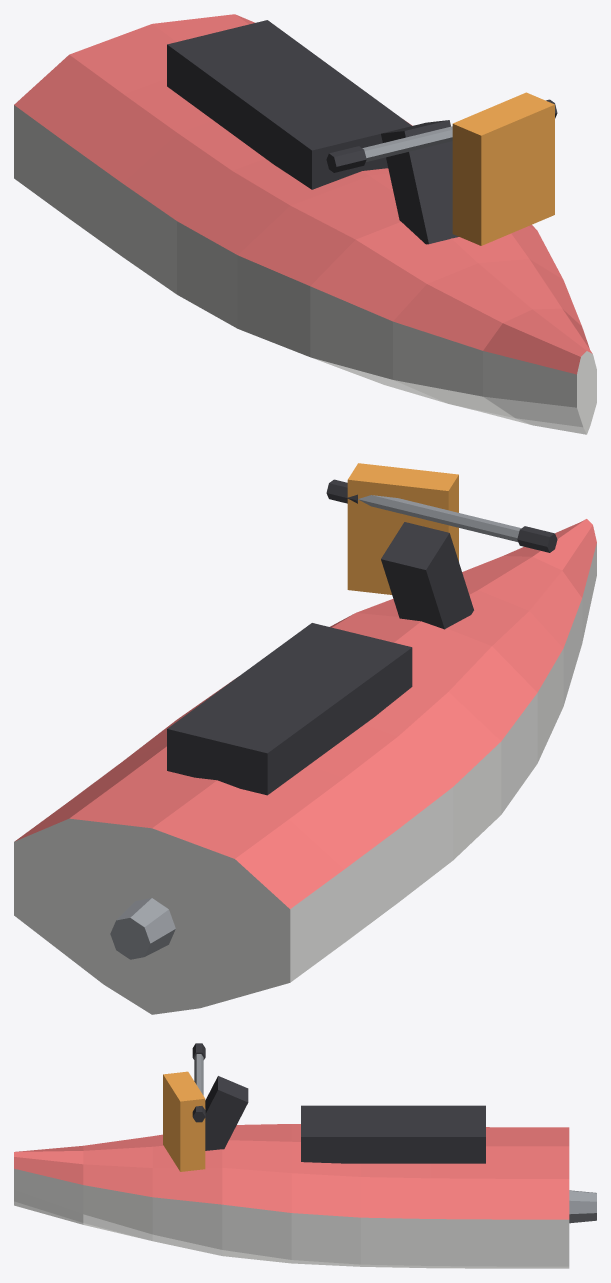
The model's file is CR_MotoAgua.fbx.
3 views of the same model, one above another, from view 1: azimuth 30°, elevation 25°; view 2: azimuth 150°, elevation 25°; view 3: azimuth 270°, elevation 25° (orthographic). The views are drawn at different scales.
Parts seen in each view (by area): view 1: CR_MotoAgua; view 2: CR_MotoAgua; view 3: CR_MotoAgua.
Part boxes in pixels (x1,y1,x2,y2): CR_MotoAgua: (14, 14, 596, 434); CR_MotoAgua: (14, 463, 596, 1014); CR_MotoAgua: (14, 1043, 596, 1268).
Bounding box in the file's own units: 1.1 × 1.16 × 3.15.
